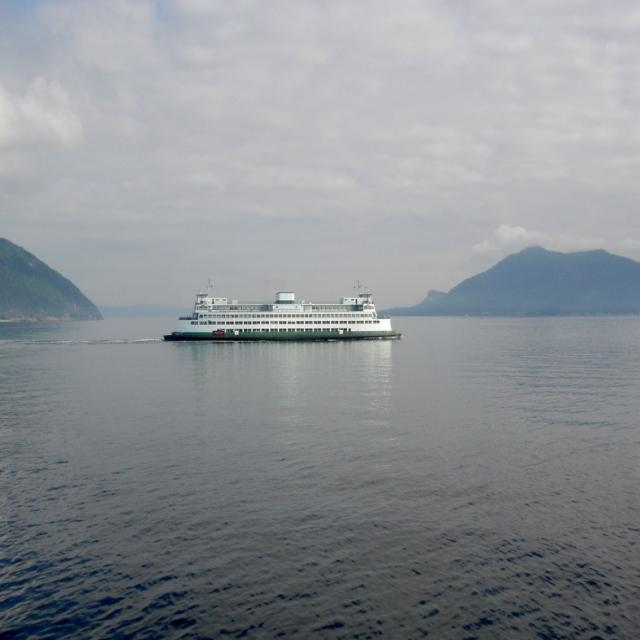passenger ship: (161, 285, 393, 351)
